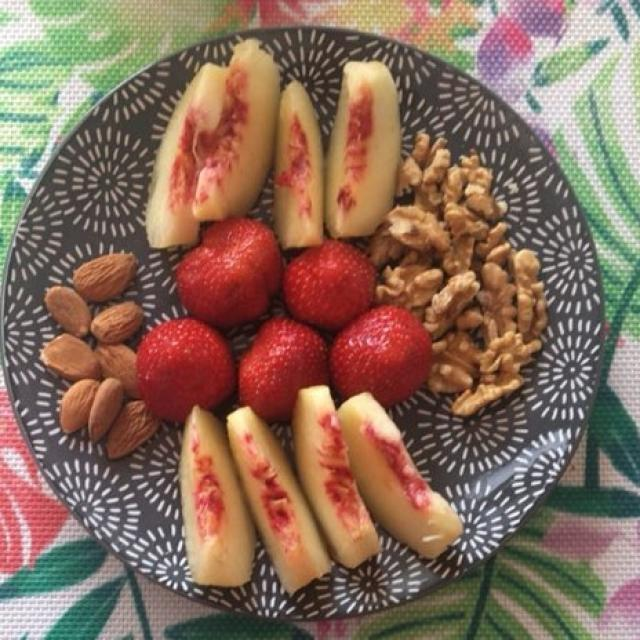almonds: (39, 254, 154, 459)
peach: (142, 48, 473, 598)
strawberries: (143, 217, 428, 403)
walnut: (375, 139, 543, 406)
